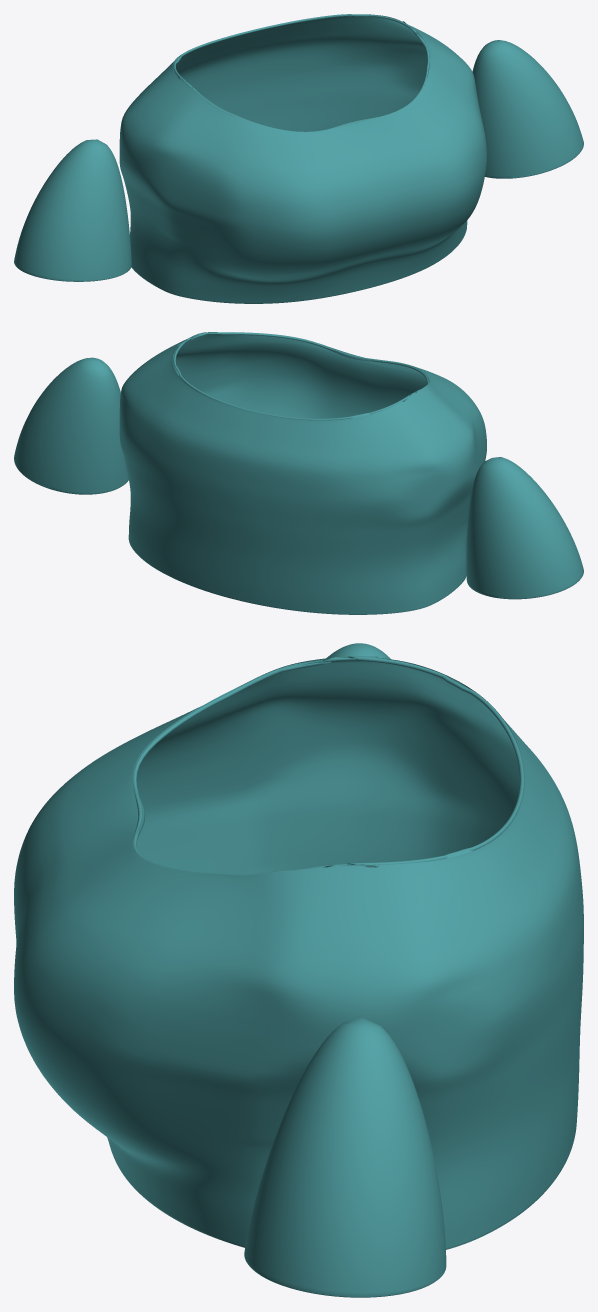
File: Feminine-tshirt-top.glb
The picture shows the model from 3 angles, top to bottom: view 1: azimuth 30°, elevation 25°; view 2: azimuth 150°, elevation 25°; view 3: azimuth 270°, elevation 25°; orthographic projection. The views are drawn at different scales.
Visible parts, largest first — view 1: Clothing / closed torso201 tshirt, Sleeve / full fabric wrap201 -1, Sleeve / full fabric wrap201 1, Neckline / seated181 export; view 2: Clothing / closed torso201 tshirt, Sleeve / full fabric wrap201 -1, Sleeve / full fabric wrap201 1, Neckline / seated181 export; view 3: Clothing / closed torso201 tshirt, Sleeve / full fabric wrap201 1, Neckline / seated181 export.
Part boxes in pixels (<box>): Clothing / closed torso201 tshirt: <box>119,14,486,303</box>; Sleeve / full fabric wrap201 -1: <box>14,139,131,281</box>; Sleeve / full fabric wrap201 1: <box>472,40,583,178</box>; Neckline / seated181 export: <box>173,14,429,132</box>; Clothing / closed torso201 tshirt: <box>119,332,486,614</box>; Sleeve / full fabric wrap201 -1: <box>466,457,583,598</box>; Sleeve / full fabric wrap201 1: <box>14,357,128,494</box>; Neckline / seated181 export: <box>173,332,429,420</box>; Clothing / closed torso201 tshirt: <box>14,657,583,1249</box>; Sleeve / full fabric wrap201 1: <box>244,1017,446,1296</box>; Neckline / seated181 export: <box>133,656,524,875</box>.
Bounding box in the file's own units: 1.04 × 0.3376 × 0.4871.
